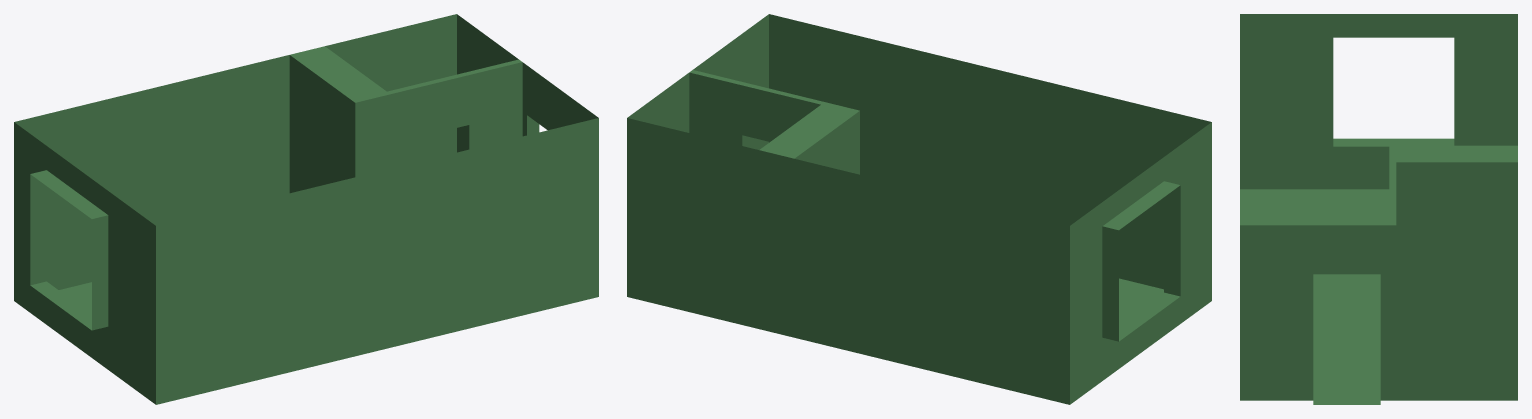
Rendered from Rooms_A_3_2_22.FBX.
3 views of the same model, side by side, from view 1: azimuth 30°, elevation 25°; view 2: azimuth 150°, elevation 25°; view 3: azimuth 270°, elevation 25° (orthographic). The views are drawn at different scales.
Visible parts, largest first — view 1: Rooms_A_3_2_22; view 2: Rooms_A_3_2_22; view 3: Rooms_A_3_2_22.
Part boxes in pixels (x1,y1,x2,y2): Rooms_A_3_2_22: (14,14,598,404); Rooms_A_3_2_22: (627,14,1211,404); Rooms_A_3_2_22: (1240,14,1517,404).
Bounding box in the file's own units: 7.71 × 2.8 × 4.02.
